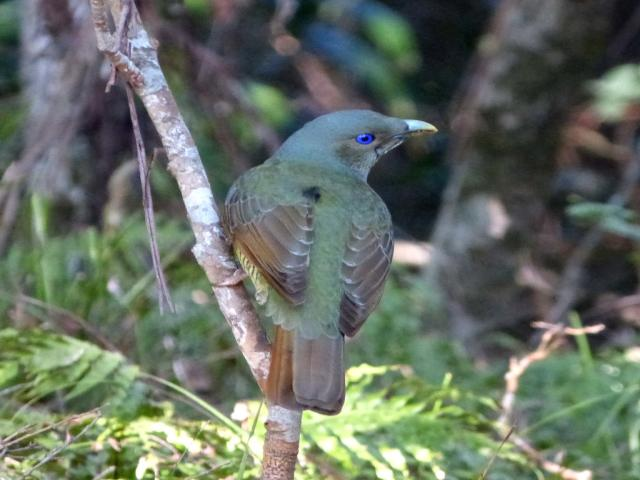Bird: (210, 107, 437, 416)
